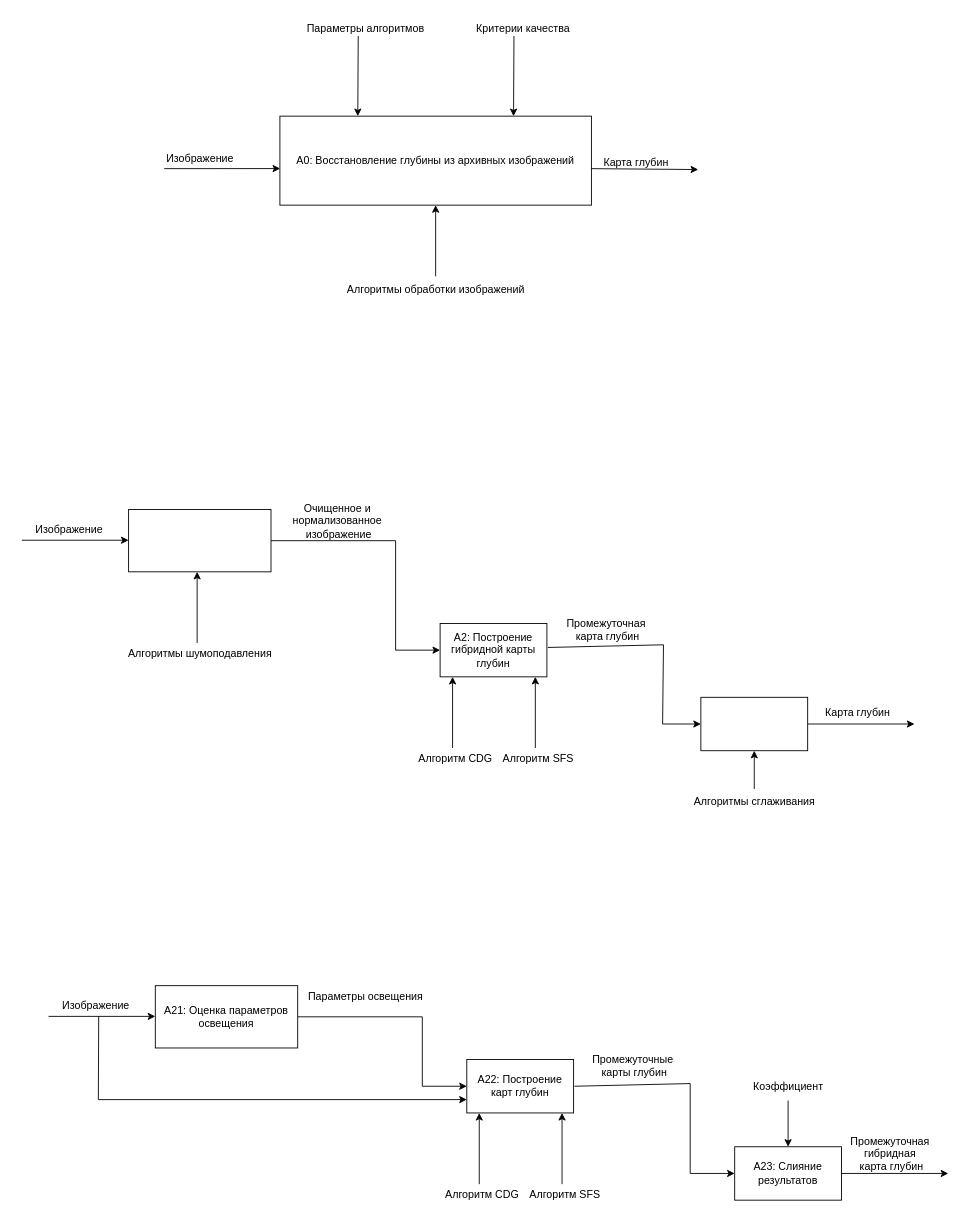
The diagram is 971 pixels wide and 1223 high, and some of its shapes have lost their labels. Here are the shapes that lost their labels. From the top down, the box of each, then its label:
(128, 509, 271, 572): А1: Предобработка изображения
(700, 696, 808, 751): A3: Пост-обработка результатов
